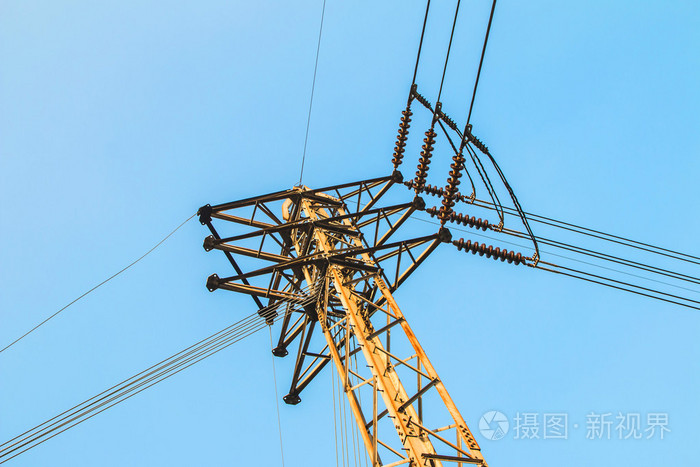insulator: (456, 237, 523, 266), (430, 203, 490, 233), (438, 151, 461, 226), (405, 181, 464, 205), (413, 130, 434, 192), (393, 109, 415, 164)
